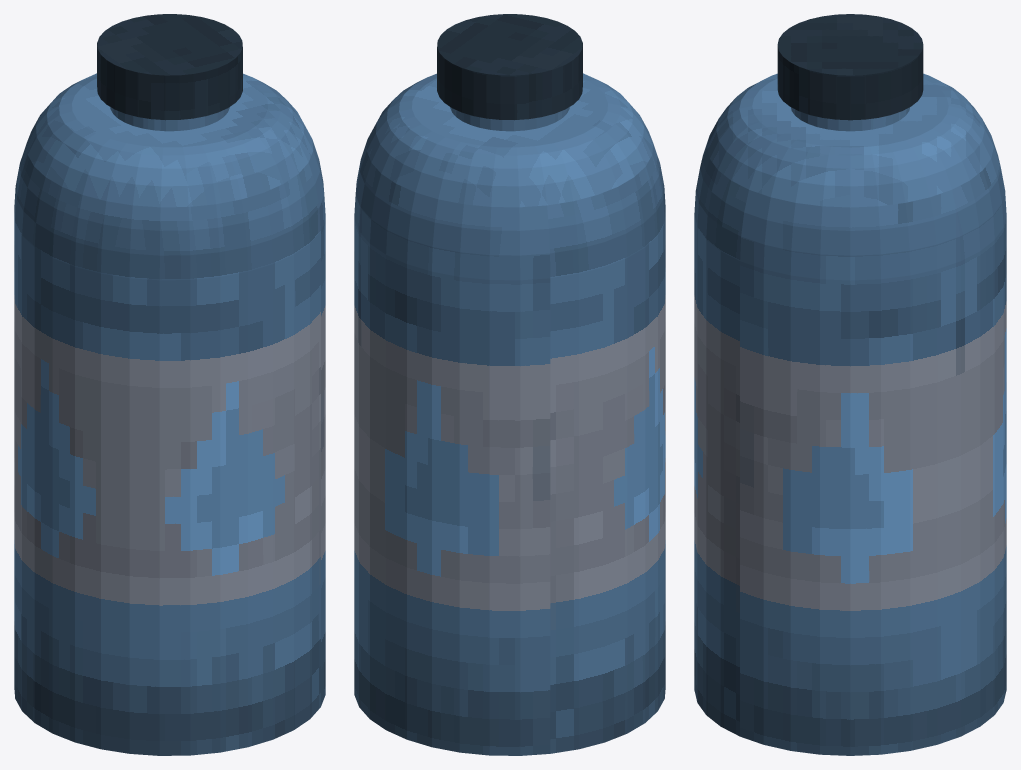
The model's file is Water Bottle.obj.
The picture shows the model from 3 angles, left to right: view 1: azimuth 30°, elevation 25°; view 2: azimuth 150°, elevation 25°; view 3: azimuth 270°, elevation 25°; orthographic projection.
Parts seen in each view (by area): view 1: Water_Bottle; view 2: Water_Bottle; view 3: Water_Bottle.
Part boxes in pixels (<box>): Water_Bottle: <box>14,14,325,755</box>; Water_Bottle: <box>354,14,665,755</box>; Water_Bottle: <box>694,14,1006,755</box>.
Bounding box in the file's own units: 1.95 × 4.45 × 1.95.
